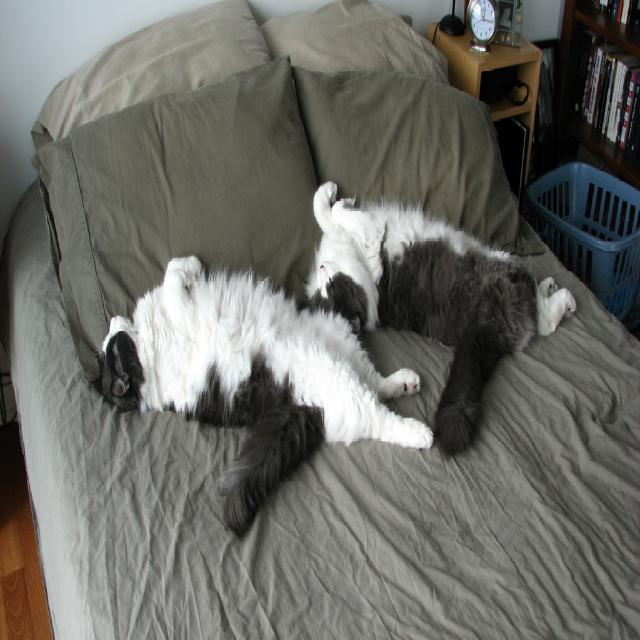Cat: (87, 252, 432, 540), (300, 180, 574, 464)
